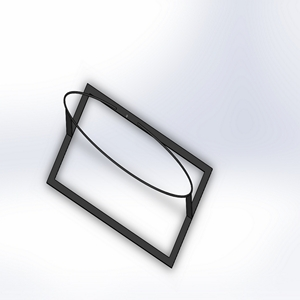circle: (41, 80, 214, 270)
